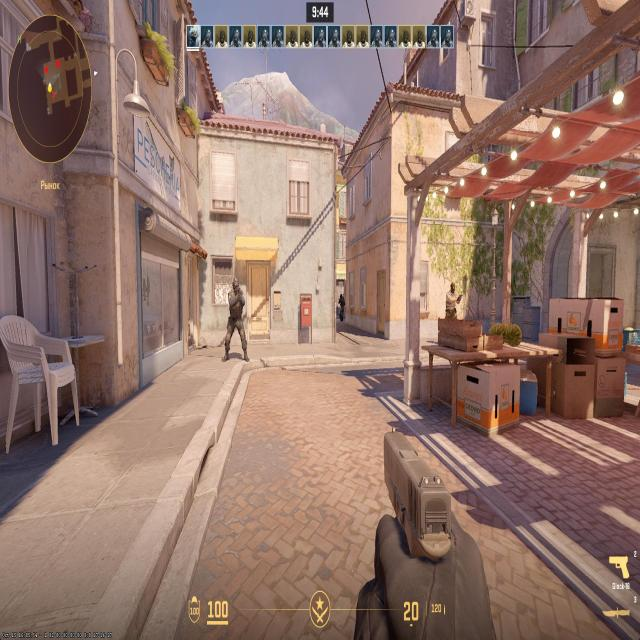CT: (228, 279, 246, 363), (340, 294, 345, 320)
CT_heat: (234, 282, 239, 294), (340, 294, 342, 299)
T: (447, 283, 456, 323)
T_heat: (450, 282, 454, 294)
